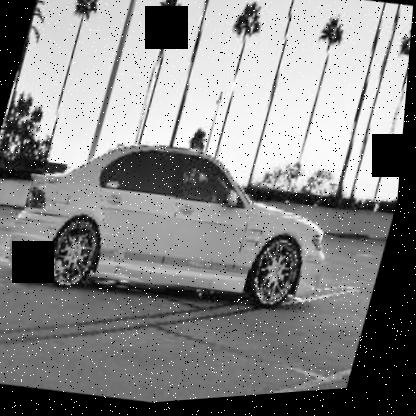not_emergency: (0, 96, 388, 377)
